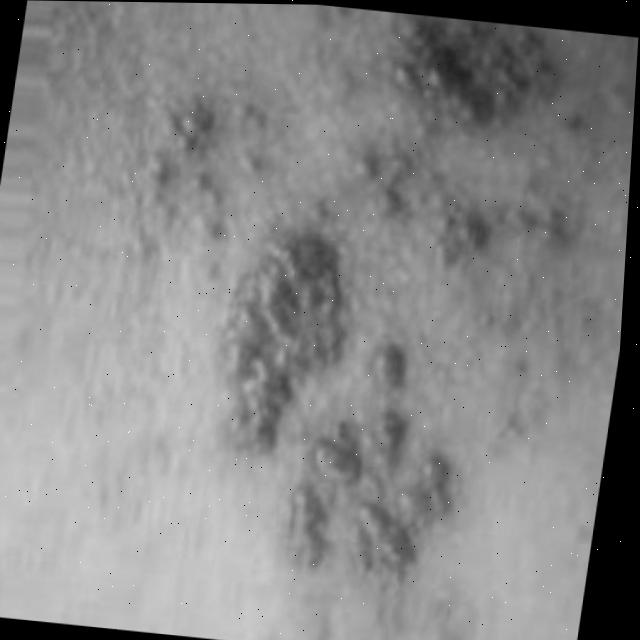Shingles: (270, 333, 470, 581), (187, 213, 358, 462), (332, 148, 590, 280), (365, 10, 571, 141), (120, 88, 269, 259)
